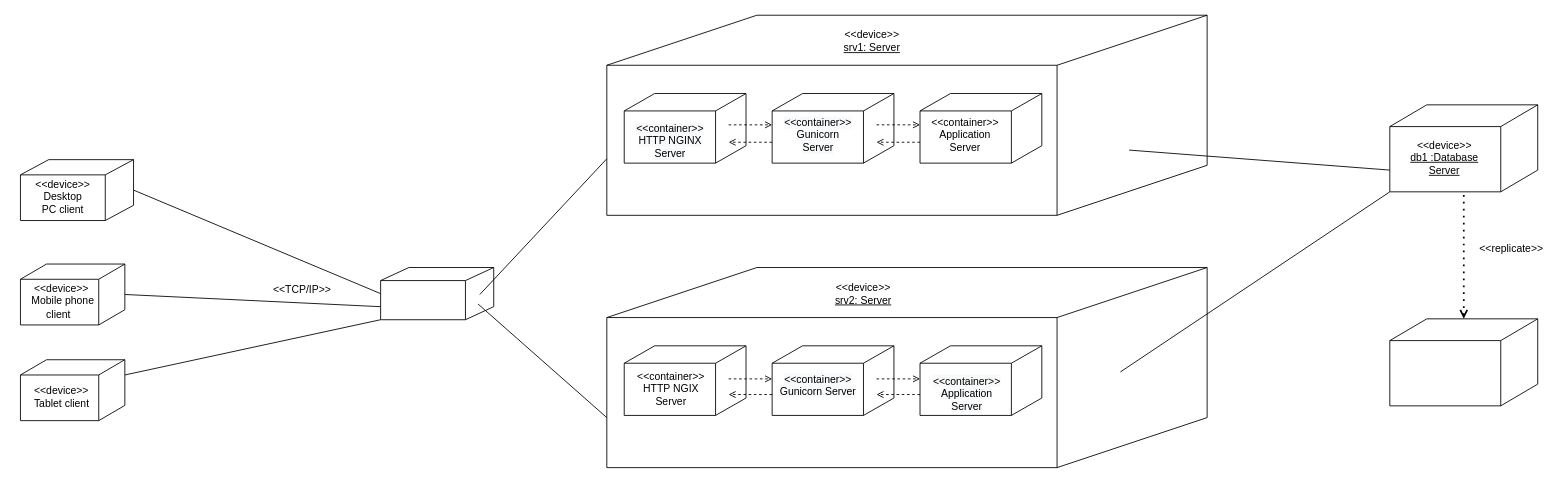
Some shapes in this 1558 by 483 pixel diagram are drawn without their labels. The centre of each missing label's shape, as x and y in pixels:
"<<device>> db2 :Database Server" belongs at (1463,362).
"<<device>> Load balancer" belongs at (437,293).
